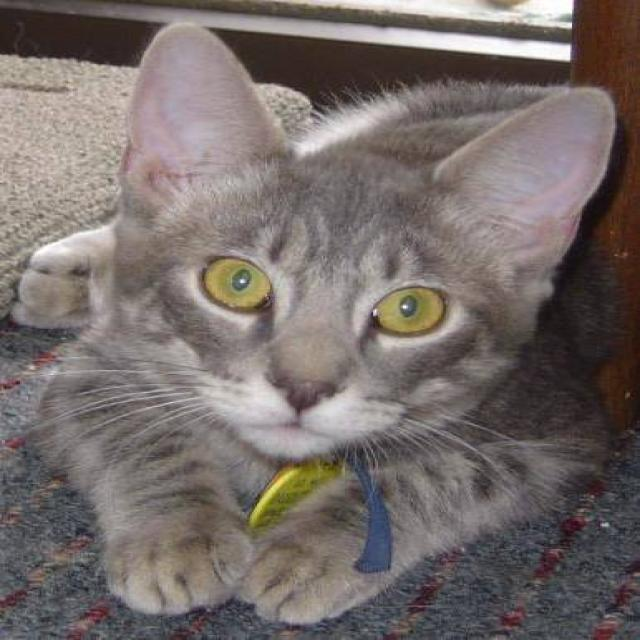cat: (8, 19, 622, 626)
